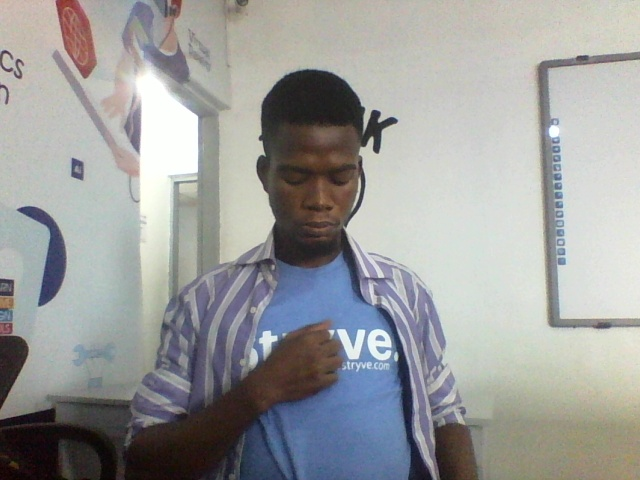sorry: (186, 319, 344, 440)
